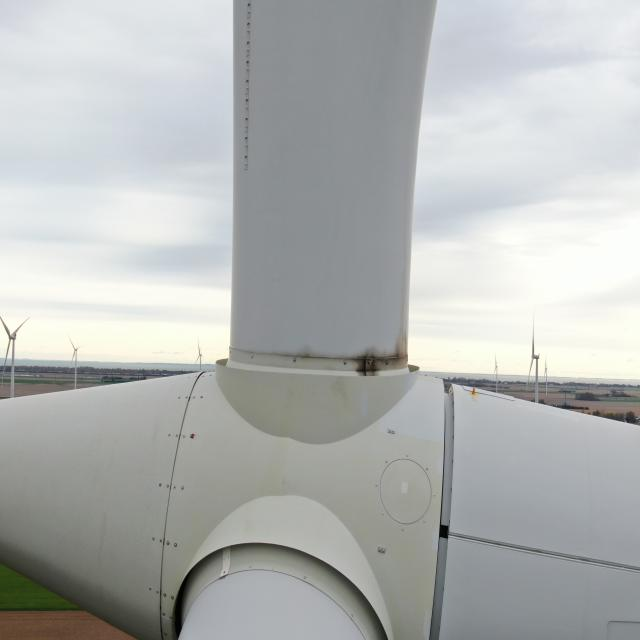damage: (350, 298, 410, 383)
